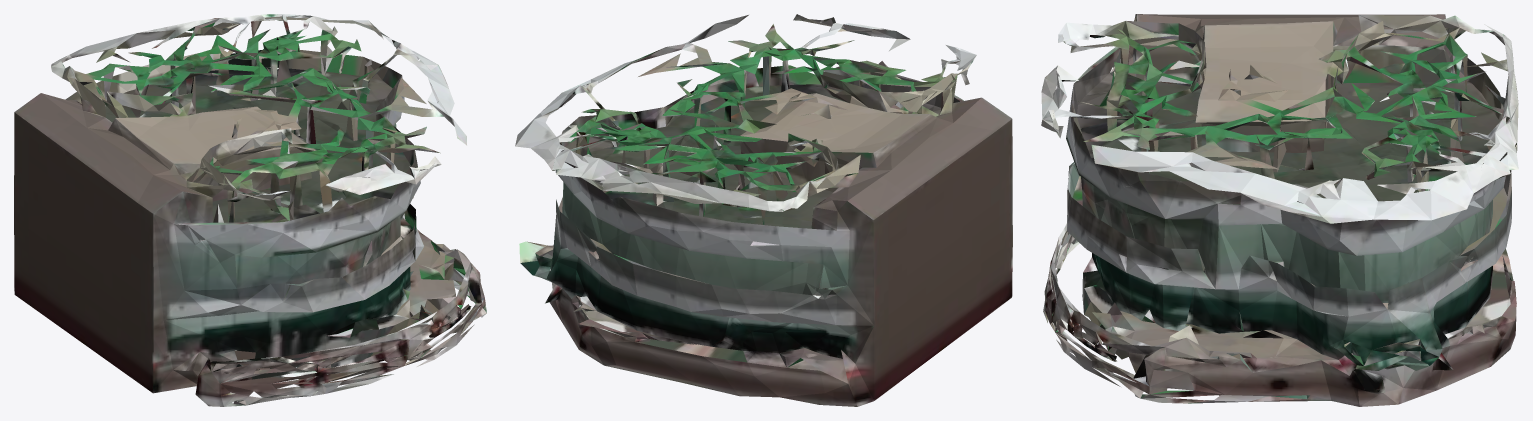
Rendered from torre_brdc.glb.
3 renders of one model, left to right at view 1: azimuth 30°, elevation 25°; view 2: azimuth 150°, elevation 25°; view 3: azimuth 270°, elevation 25°, orthographic. The views are drawn at different scales.
Parts seen in each view (by area): view 1: tmpg18warm_.ply; view 2: tmpg18warm_.ply; view 3: tmpg18warm_.ply.
Boxes of the visible parts, box(x1,y1,x2,y2) form: tmpg18warm_.ply: box(14, 14, 486, 406); tmpg18warm_.ply: box(515, 14, 1012, 406); tmpg18warm_.ply: box(1041, 14, 1518, 406).
Bounding box in the file's own units: 1.99 × 1.08 × 1.99.
1 material, 1 textured.
